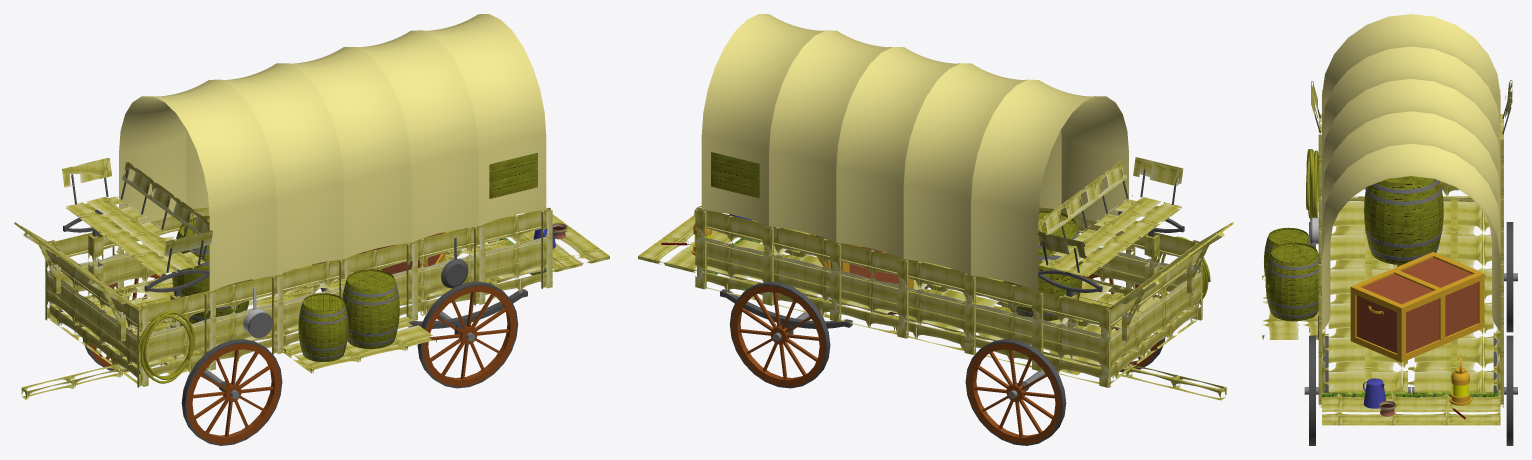
File: Planwagen.dae
3 renders of one model, left to right at view 1: azimuth 30°, elevation 25°; view 2: azimuth 150°, elevation 25°; view 3: azimuth 270°, elevation 25°, orthographic.
Visible parts, largest first — view 1: Group18, Component_4 (×2), Group21, Group_11_1, Group28, Group23, Group8, wheel4, wheel, Component_6 (×5), Group32, Component_5_1 (+19 smaller); view 2: Group18, Component_4 (×2), Group21, Group_11_1, Group28, Group23, wheel12 (×2), Group8, Component_6 (×7), Component_5_1, Group3, Group26 (+13 smaller); view 3: Group8, Group23, Group44, Group3, Group18, Group21, Group28, Group_11_1, Component_5_2, Group45, Group32, wheel12 (×2) (+8 smaller).
Boxes of the visible parts, x1,y1,x2,y2 form: Group18: [119, 79, 276, 291]; Component_4 (×2): [49, 207, 550, 370]; Group21: [186, 63, 344, 275]; Group_11_1: [288, 47, 411, 258]; Group28: [355, 30, 478, 242]; Group23: [422, 14, 546, 225]; Group8: [52, 228, 547, 377]; wheel4: [181, 339, 282, 445]; wheel: [417, 281, 518, 388]; Component_6 (×5): [204, 209, 552, 371]; Group32: [342, 269, 399, 348]; Component_5_1: [47, 247, 140, 367]; Group18: [971, 79, 1128, 291]; Component_4 (×2): [697, 207, 1198, 370]; Group21: [903, 63, 1061, 275]; Group_11_1: [836, 47, 959, 258]; Group28: [769, 30, 892, 242]; Group23: [701, 14, 825, 225]; wheel12 (×2): [729, 281, 1066, 445]; Group8: [702, 228, 1195, 383]; Component_6 (×7): [695, 209, 1110, 387]; Component_5_1: [1107, 244, 1200, 370]; Group3: [1003, 210, 1083, 320]; Group26: [1072, 202, 1181, 276]; Group8: [1325, 198, 1500, 392]; Group23: [1322, 143, 1500, 330]; Group44: [1350, 277, 1484, 362]; Group3: [1364, 176, 1443, 264]; Group18: [1322, 14, 1500, 126]; Group21: [1322, 46, 1500, 159]; Group28: [1322, 111, 1500, 223]; Group_11_1: [1322, 79, 1500, 191]; Component_5_2: [1322, 394, 1500, 425]; Group45: [1350, 252, 1484, 311]; Group32: [1265, 242, 1321, 321]; wheel12 (×2): [1411, 222, 1517, 445].
Bounding box in the file's own units: 306 × 127 × 167.
